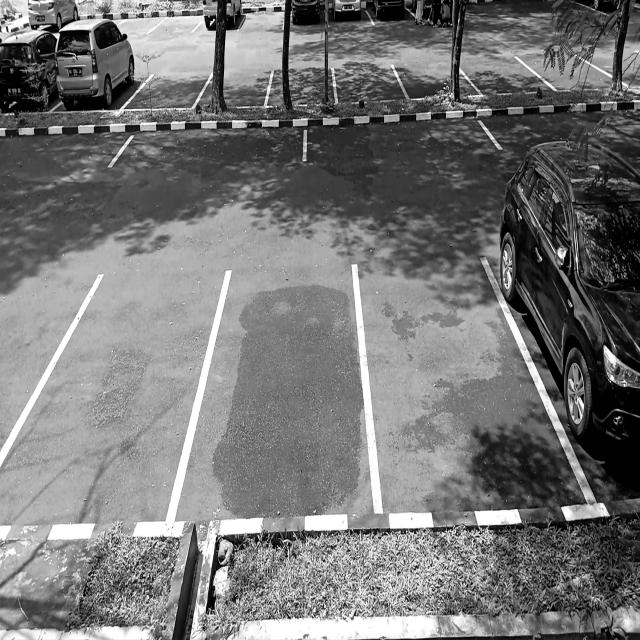occupied: (192, 10, 248, 33)
vacant: (0, 233, 229, 527), (355, 256, 594, 523), (161, 266, 381, 529), (302, 110, 499, 160), (110, 123, 307, 165), (516, 52, 632, 93), (459, 55, 557, 98), (119, 72, 213, 111), (391, 66, 484, 104), (333, 64, 408, 104), (193, 72, 273, 108), (263, 70, 337, 107), (148, 13, 210, 33), (237, 8, 286, 31)
